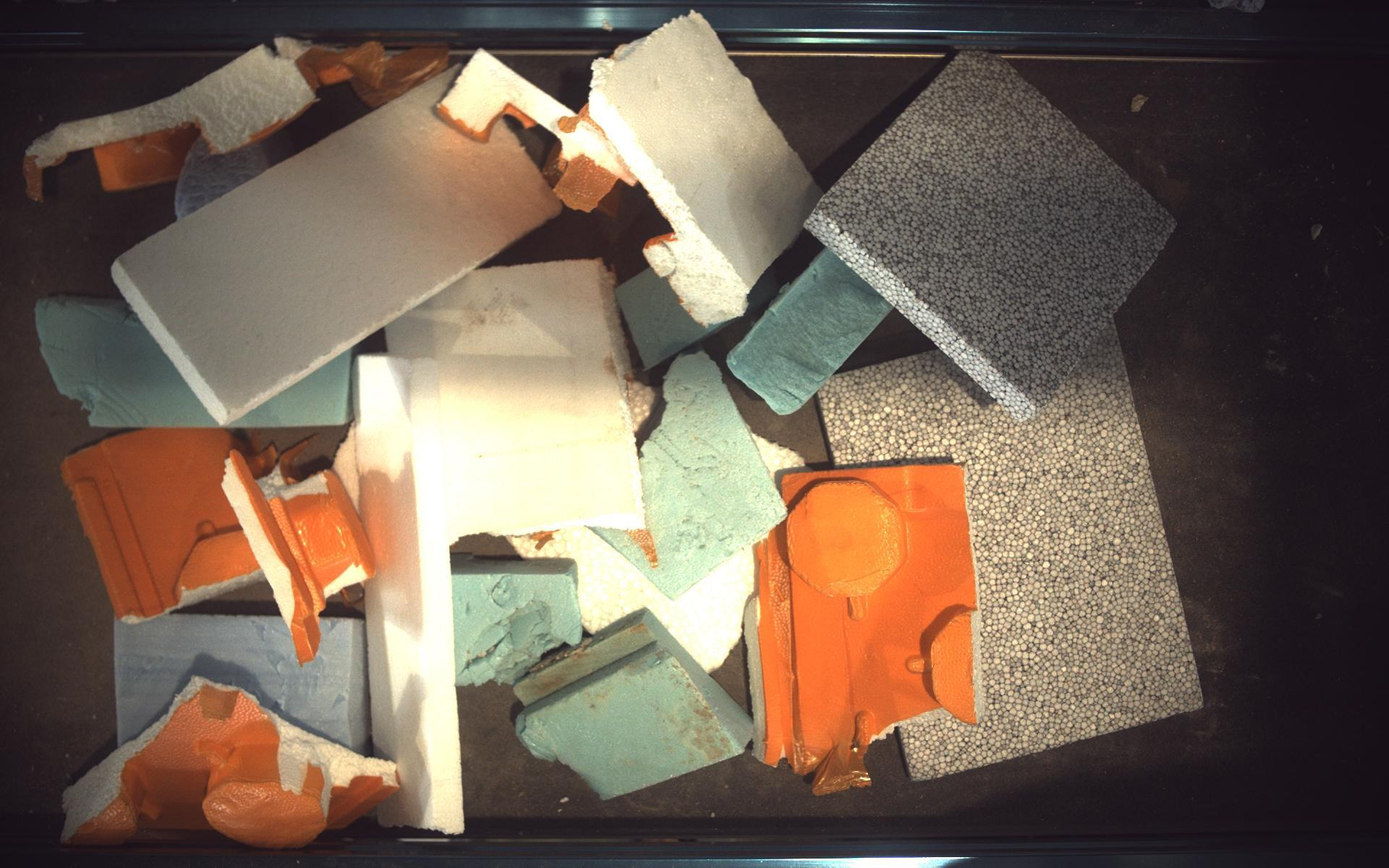foam: (820, 326, 1205, 781), (111, 69, 562, 425), (807, 50, 1178, 421), (386, 260, 658, 566), (558, 11, 822, 326), (749, 463, 979, 795), (61, 678, 399, 850), (355, 357, 464, 835), (595, 351, 787, 600), (22, 43, 315, 199), (514, 610, 752, 801), (61, 429, 261, 623), (509, 527, 756, 673), (114, 614, 370, 754), (221, 436, 374, 666), (438, 49, 637, 211), (728, 248, 894, 414), (33, 295, 217, 428), (451, 557, 583, 687), (274, 35, 448, 106), (616, 268, 718, 369), (232, 349, 352, 427), (175, 137, 269, 218), (752, 431, 806, 479), (332, 424, 360, 511), (627, 376, 658, 435)
